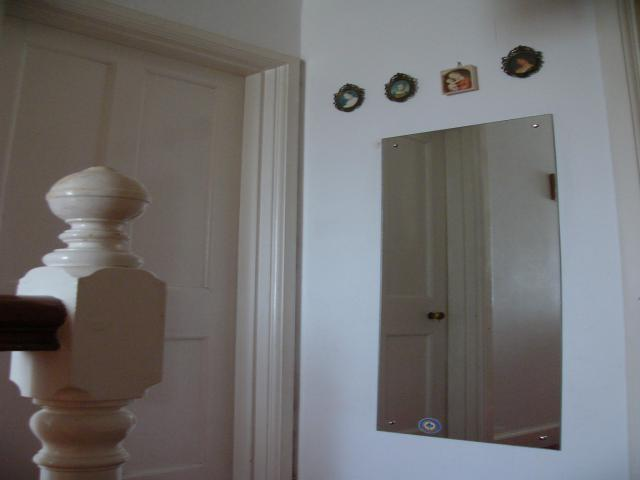Door-handle: (429, 310, 447, 322)
